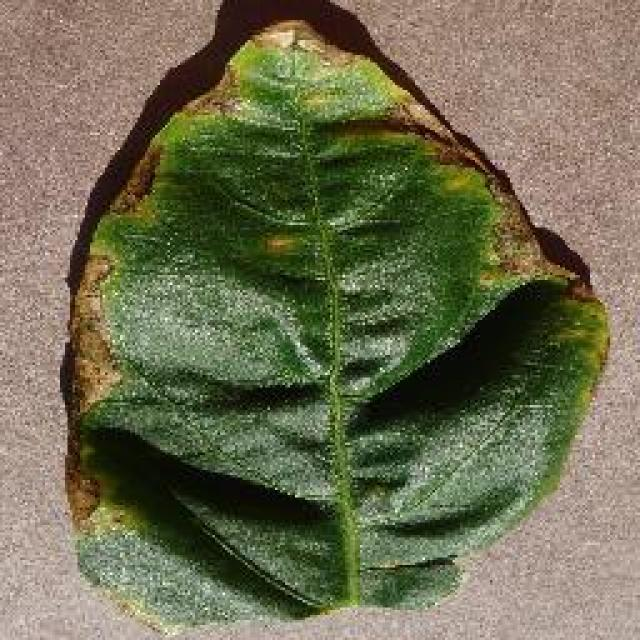Chilli_Bacterial_Spot: (58, 15, 612, 635), (63, 246, 124, 434), (248, 15, 328, 57), (255, 228, 305, 260)
